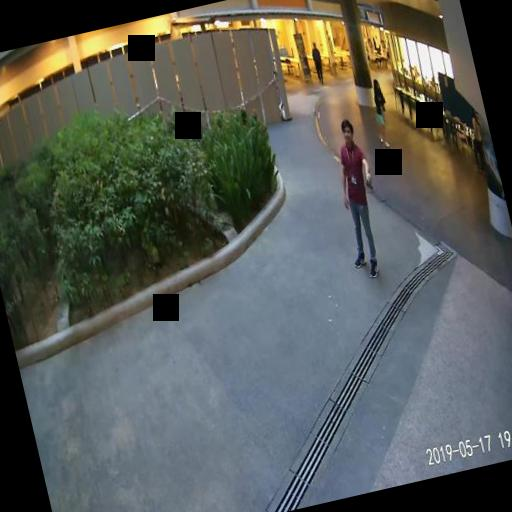Handgun: (364, 172, 374, 190)
